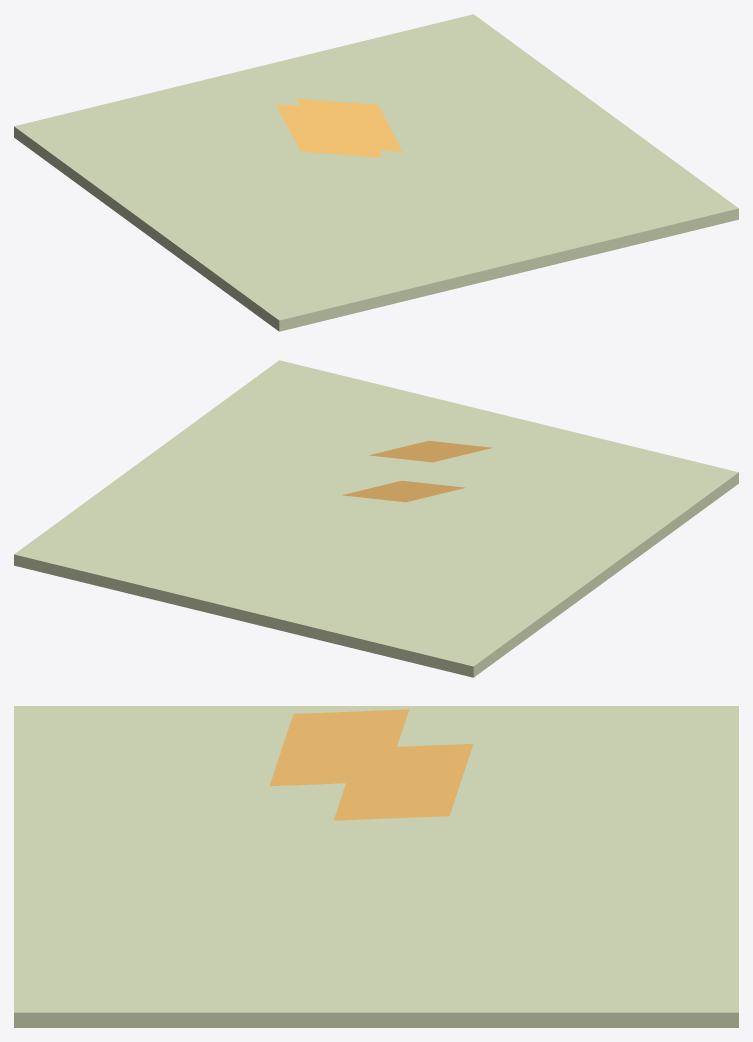
File: triangle_test.glb
3 renders of one model, top to bottom at view 1: azimuth 30°, elevation 25°; view 2: azimuth 150°, elevation 25°; view 3: azimuth 270°, elevation 25°, orthographic. The views are drawn at different scales.
Parts seen in each view (by area): view 1: Cube, Plane.002, Plane.001; view 2: Cube, Plane.001, Plane.002; view 3: Cube, Plane.002, Plane.001.
Boxes of the visible parts, x1,y1,x2,y2 form: Cube: (14,14,738,331); Plane.002: (296,99,402,151); Plane.001: (276,104,382,157); Cube: (14,360,738,677); Plane.001: (342,480,465,502); Plane.002: (369,440,492,462); Cube: (14,706,738,1027); Plane.002: (269,709,409,786); Plane.001: (333,743,473,820).
Bounding box in the file's own units: 19.12 × 3.48 × 19.12.
